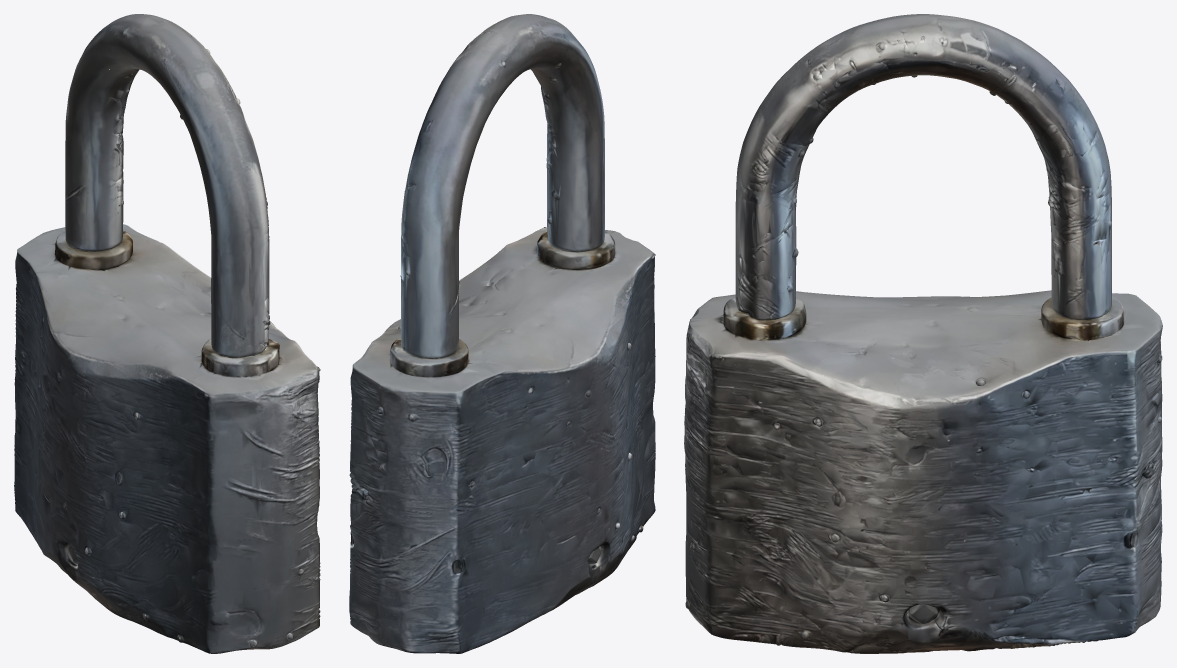
Rendered from padlock.opt.glb.
The picture shows the model from 3 angles, left to right: view 1: azimuth 30°, elevation 25°; view 2: azimuth 150°, elevation 25°; view 3: azimuth 270°, elevation 25°; orthographic projection. The views are drawn at different scales.
Parts seen in each view (by area): view 1: tripo_node_5298a140-38b3-4e85-816c-e80c615ffafb; view 2: tripo_node_5298a140-38b3-4e85-816c-e80c615ffafb; view 3: tripo_node_5298a140-38b3-4e85-816c-e80c615ffafb.
Boxes of the visible parts, x1,y1,x2,y2 form: tripo_node_5298a140-38b3-4e85-816c-e80c615ffafb: [14, 14, 320, 653]; tripo_node_5298a140-38b3-4e85-816c-e80c615ffafb: [349, 14, 655, 653]; tripo_node_5298a140-38b3-4e85-816c-e80c615ffafb: [684, 14, 1162, 653].
Size of the model in its own units: 0.3722 by 0.9786 by 0.7132.
Materials: 1 (1 with a texture image).
